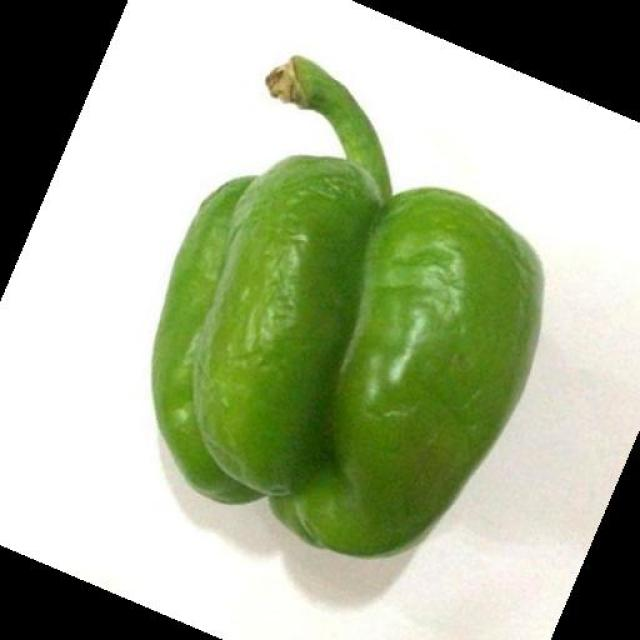Fresh_Capsicum: (154, 46, 555, 545)
